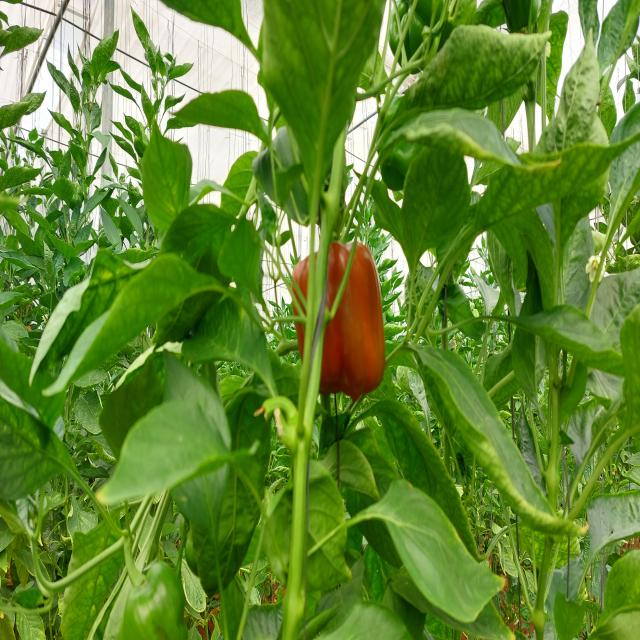Red-Ready-to-Harvest: (293, 246, 389, 403)
